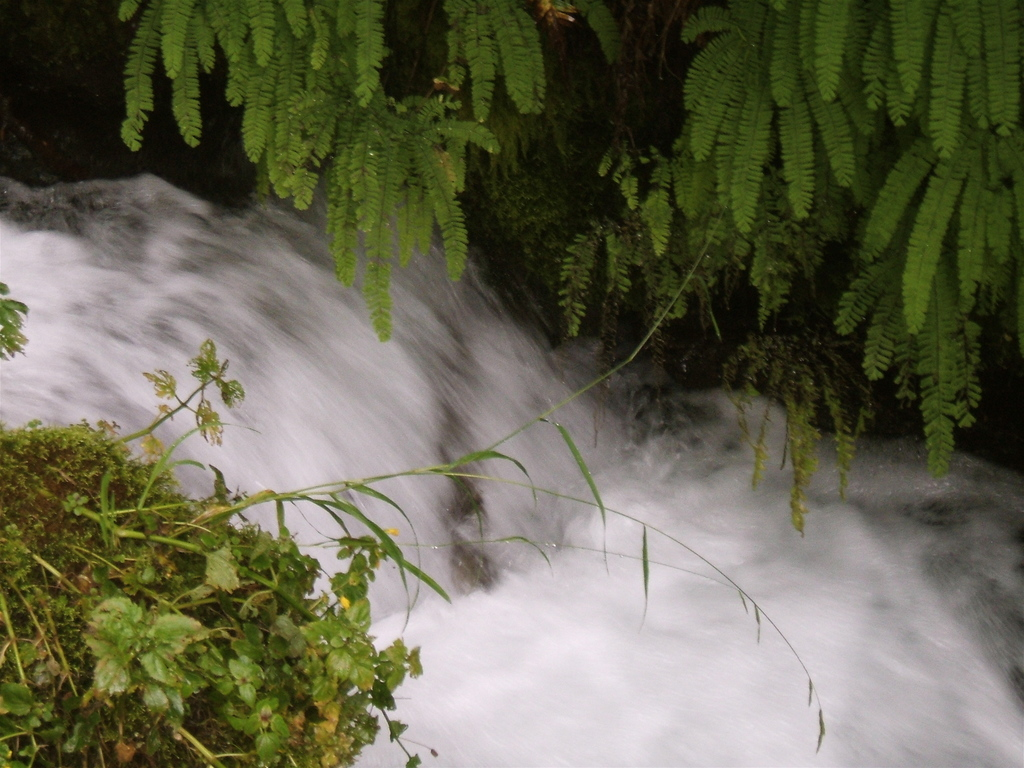Tree: (106, 0, 1023, 543)
